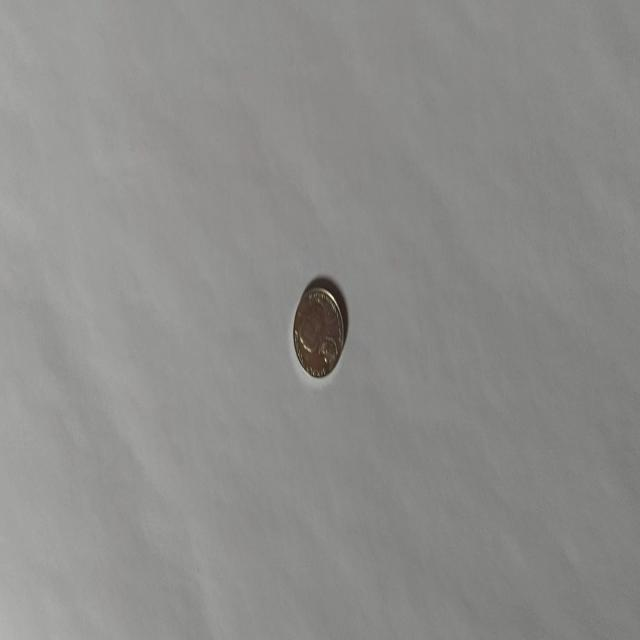seratus rupiah: (292, 284, 344, 380)
